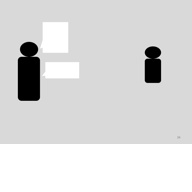left_oneway: (37, 18, 74, 54), (40, 58, 84, 82)
